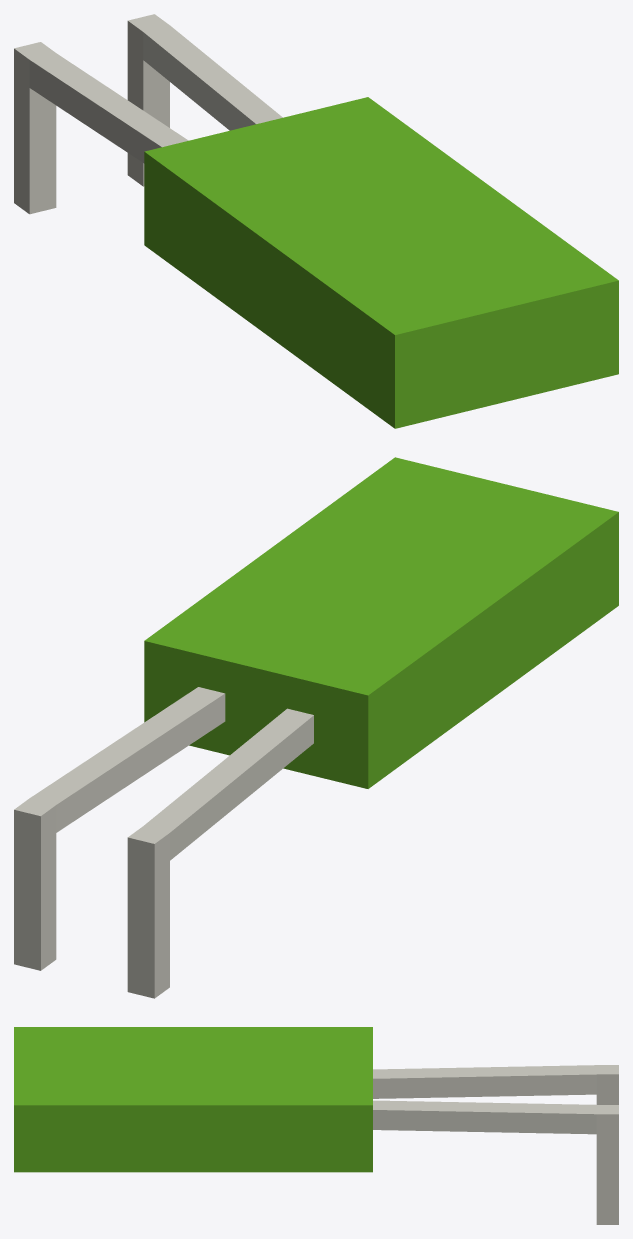
File: kc-led_rectangular_w5.0mm_h2.0mm_horizontal_o6.35mm_z1.0mm.glb
3 views of the same model, one above another, from view 1: azimuth 30°, elevation 25°; view 2: azimuth 150°, elevation 25°; view 3: azimuth 270°, elevation 25° (orthographic). The views are drawn at different scales.
Parts seen in each view (by area): view 1: 0.16666666666666666_0.4166666666666667_0_0, 0.6666666666666666_0.6666666666666666_0.5833333333333334_0.8; view 2: 0.16666666666666666_0.4166666666666667_0_0, 0.6666666666666666_0.6666666666666666_0.5833333333333334_0.8; view 3: 0.16666666666666666_0.4166666666666667_0_0, 0.6666666666666666_0.6666666666666666_0.5833333333333334_0.8.
Boxes of the visible parts, box(x1,y1,x2,y2) form: 0.16666666666666666_0.4166666666666667_0_0: box(144, 97, 618, 428); 0.6666666666666666_0.6666666666666666_0.5833333333333334_0.8: box(14, 14, 282, 214); 0.16666666666666666_0.4166666666666667_0_0: box(144, 457, 618, 788); 0.6666666666666666_0.6666666666666666_0.5833333333333334_0.8: box(14, 687, 313, 998); 0.16666666666666666_0.4166666666666667_0_0: box(14, 1027, 372, 1172); 0.6666666666666666_0.6666666666666666_0.5833333333333334_0.8: box(373, 1065, 618, 1224).
Bounding box in the file's own units: 0.5 × 0.4 × 1.63.
